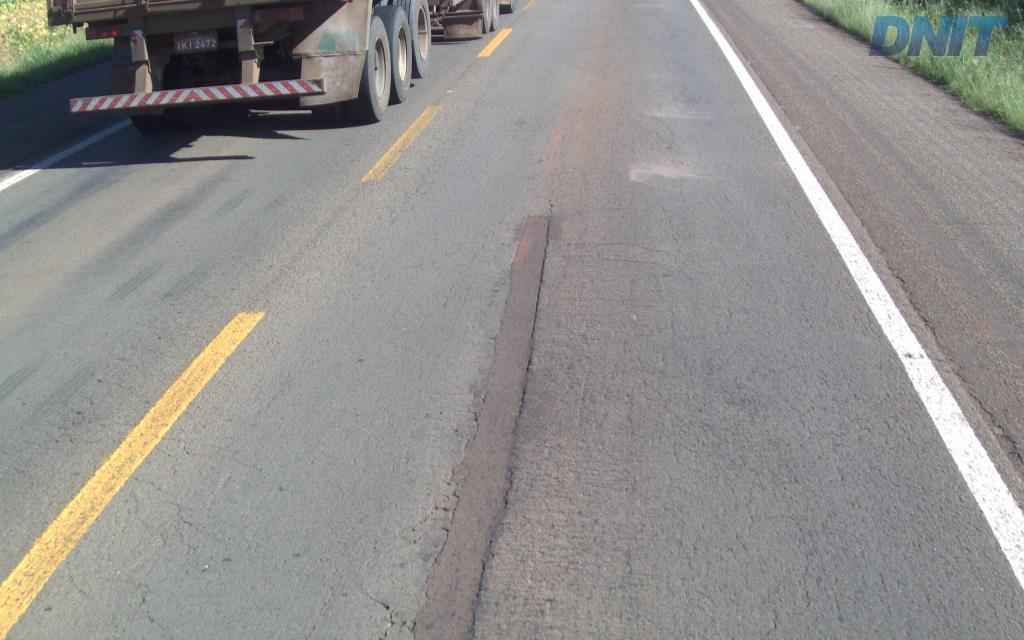pothole: (396, 205, 556, 638)
